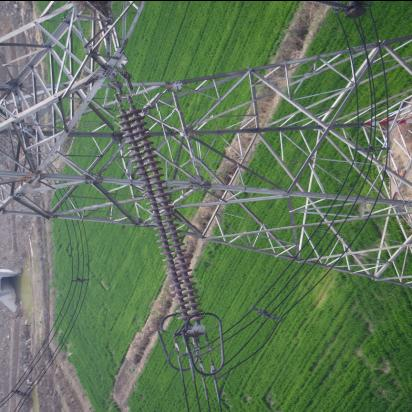insulator: (116, 93, 204, 332)
